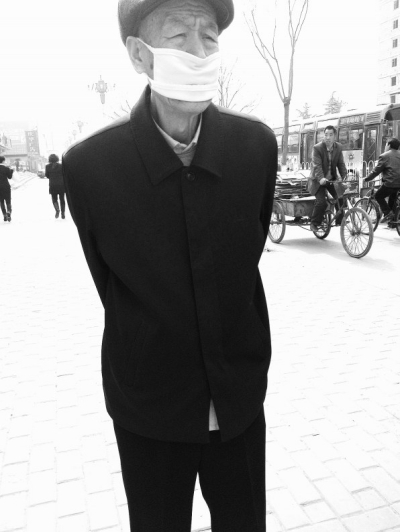face: (324, 128, 333, 143)
face_mask: (148, 1, 220, 107)
